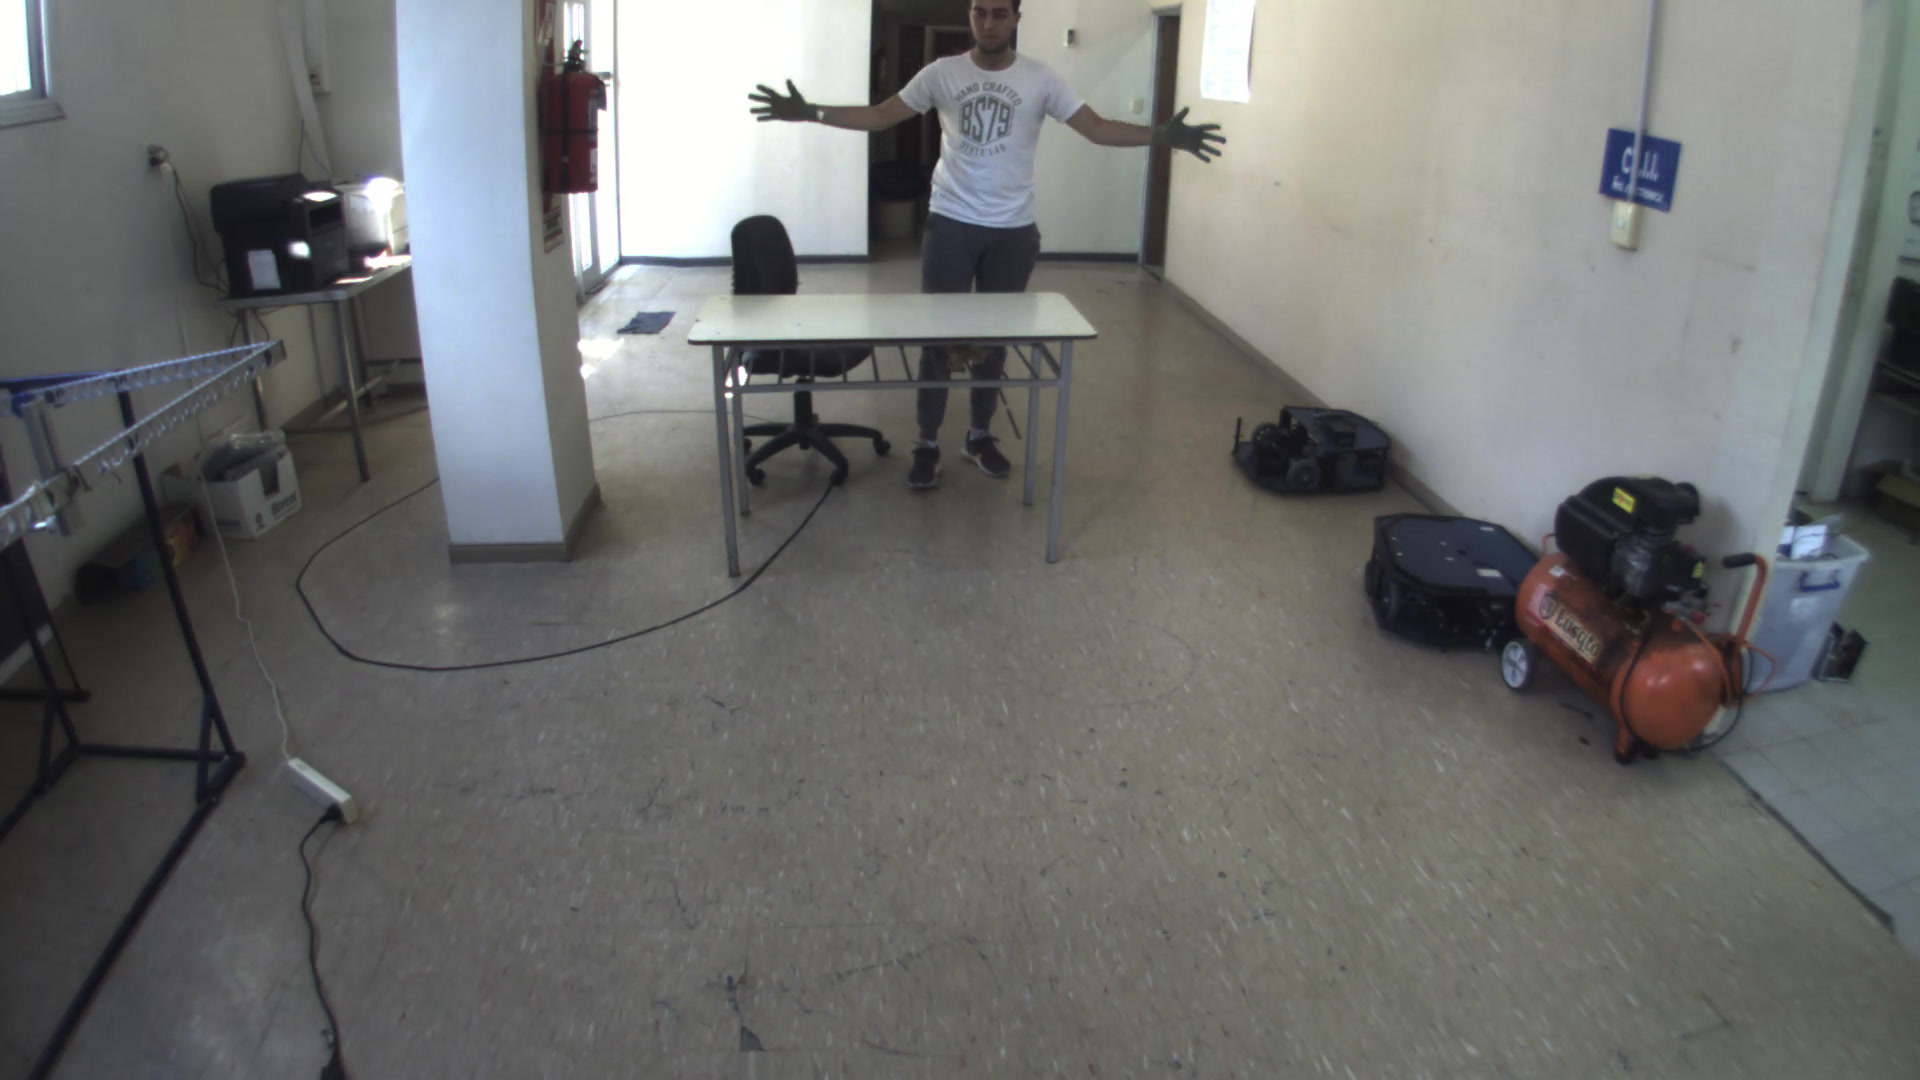hand: (1154, 99, 1237, 174), (741, 73, 825, 135)
